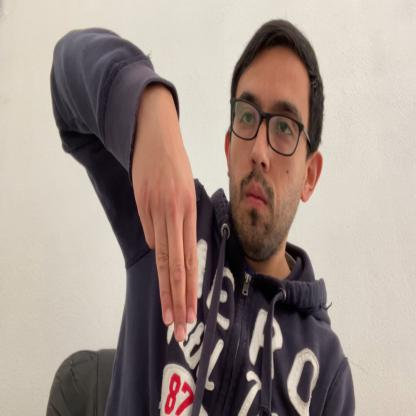M: (131, 99, 198, 343)
